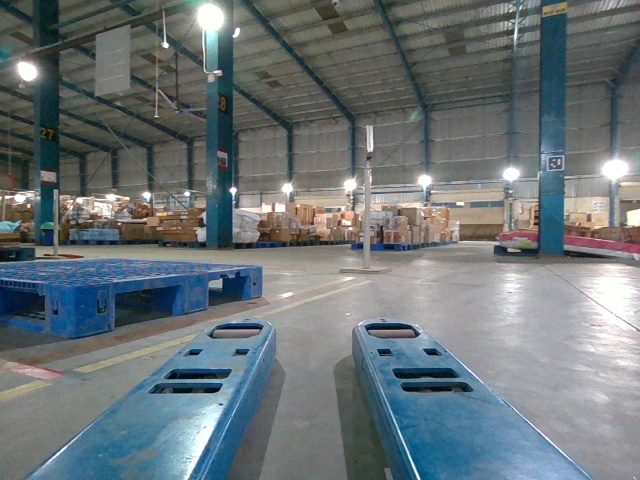block: (70, 278, 116, 340), (185, 269, 209, 313), (248, 262, 263, 300)
front: (73, 264, 262, 337)
hole pallet: (111, 280, 185, 329), (204, 270, 253, 309)
